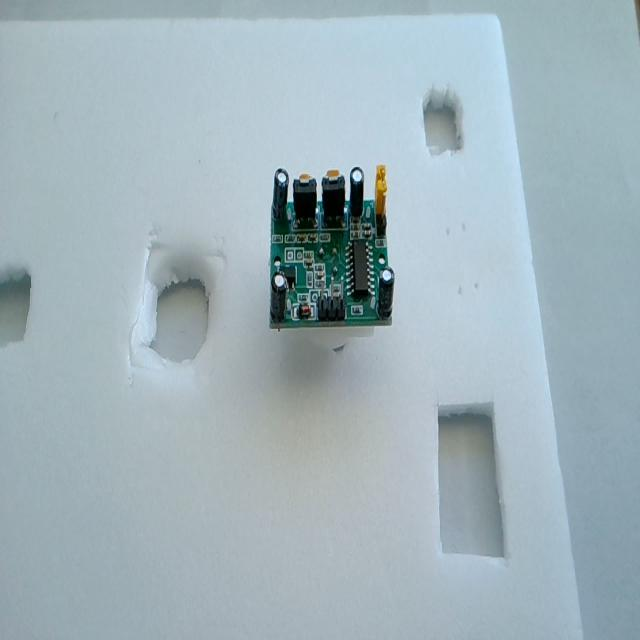Electrolytic capacitor: (270, 272, 288, 322), (272, 168, 289, 220), (378, 268, 394, 318), (350, 166, 364, 218)
IC: (346, 239, 373, 300)
pinheader: (317, 295, 345, 321)
